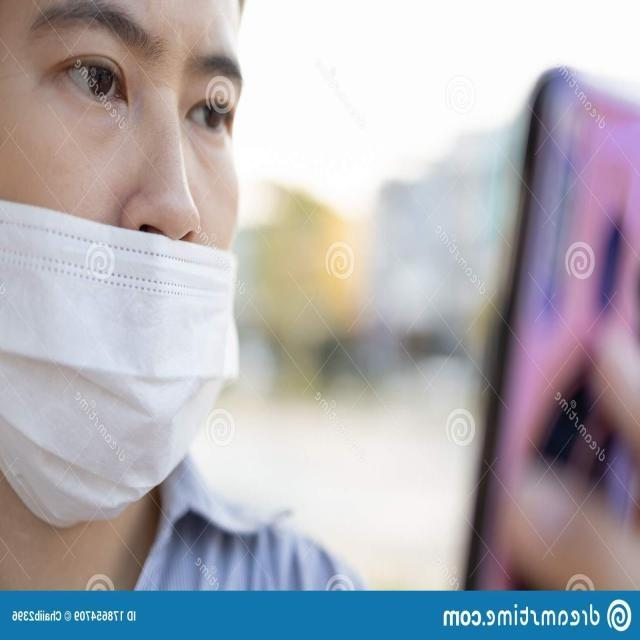hairnet: (0, 0, 252, 512)
